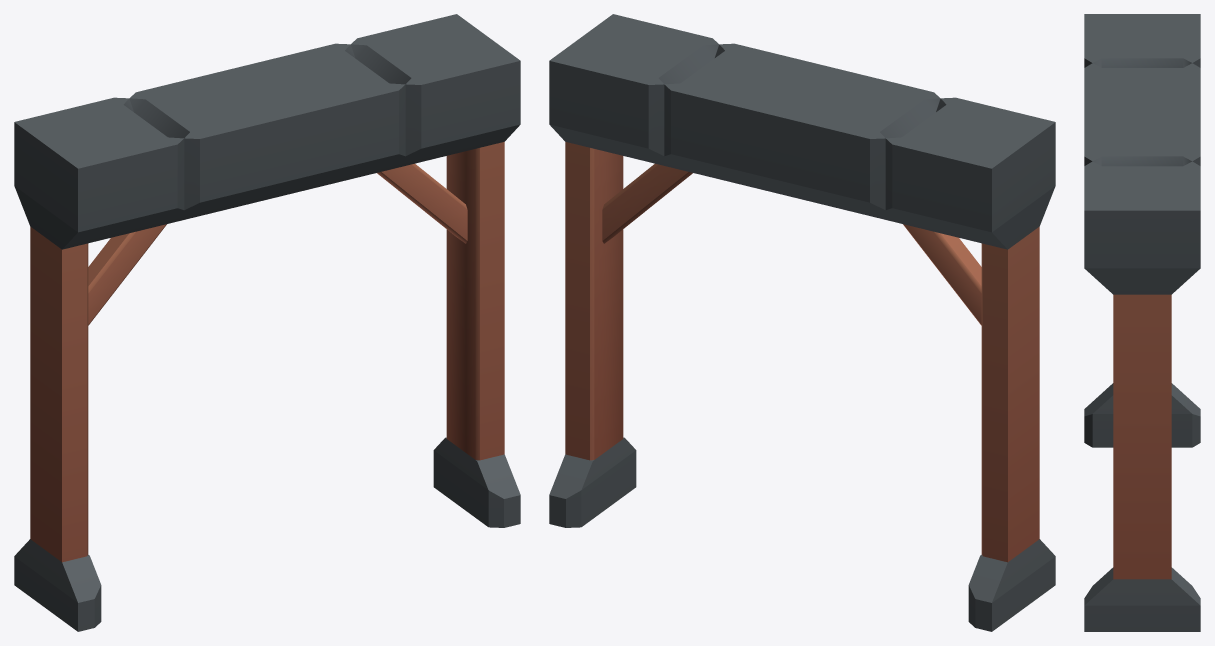
Rendered from wall_open_scaffold.gltf.
3 renders of one model, left to right at view 1: azimuth 30°, elevation 25°; view 2: azimuth 150°, elevation 25°; view 3: azimuth 270°, elevation 25°, orthographic. The views are drawn at different scales.
Visible parts, largest first — view 1: wall_open_scaffold; view 2: wall_open_scaffold; view 3: wall_open_scaffold.
Boxes of the visible parts, bbox=[...] form: wall_open_scaffold: bbox=[14, 14, 520, 631]; wall_open_scaffold: bbox=[549, 14, 1055, 631]; wall_open_scaffold: bbox=[1084, 14, 1200, 631].
Bounding box in the file's own units: 4 × 4 × 1.
Materials: 1 (1 with a texture image).
